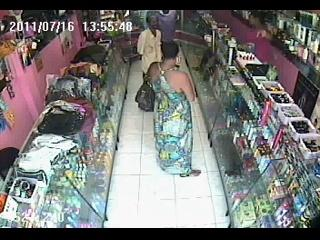Normal: (143, 42, 200, 177), (136, 15, 164, 80), (134, 80, 156, 112)
